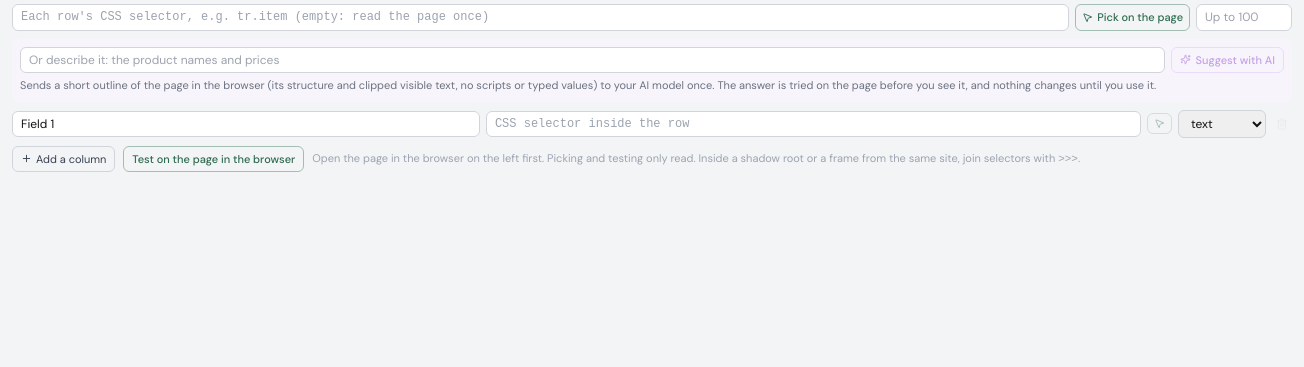
Test: Suggest with AI › a proposal for one record says so
Type "names and prices" into the field named "What to read for step 1" at [593, 60], box [20,47,1166,73]
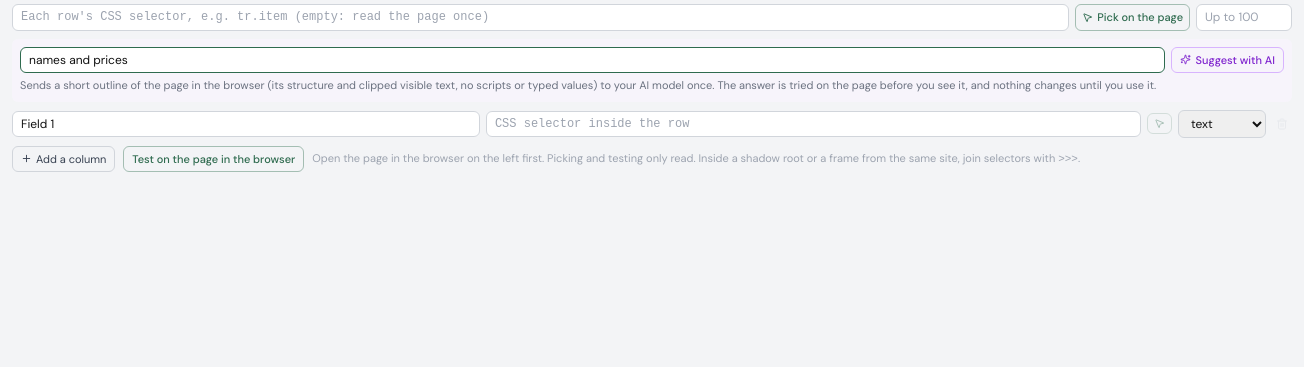
Click the button "Suggest with AI" at [1228, 60], box [1172,46,1284,73]
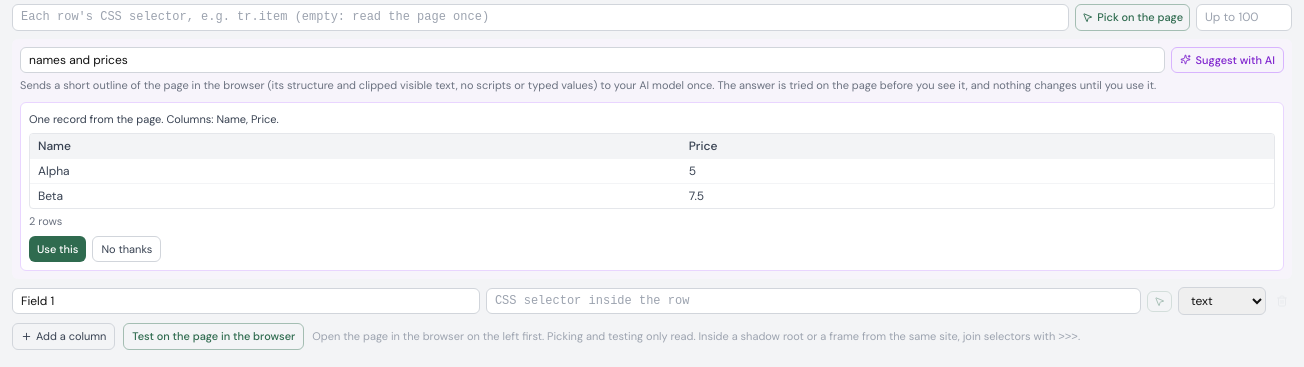
Expected: the text "One record from the page. Columns: Name, Price." is shown, [29,112,279,126]
